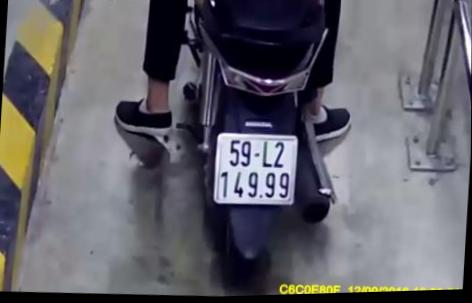LP: (211, 130, 302, 210)
